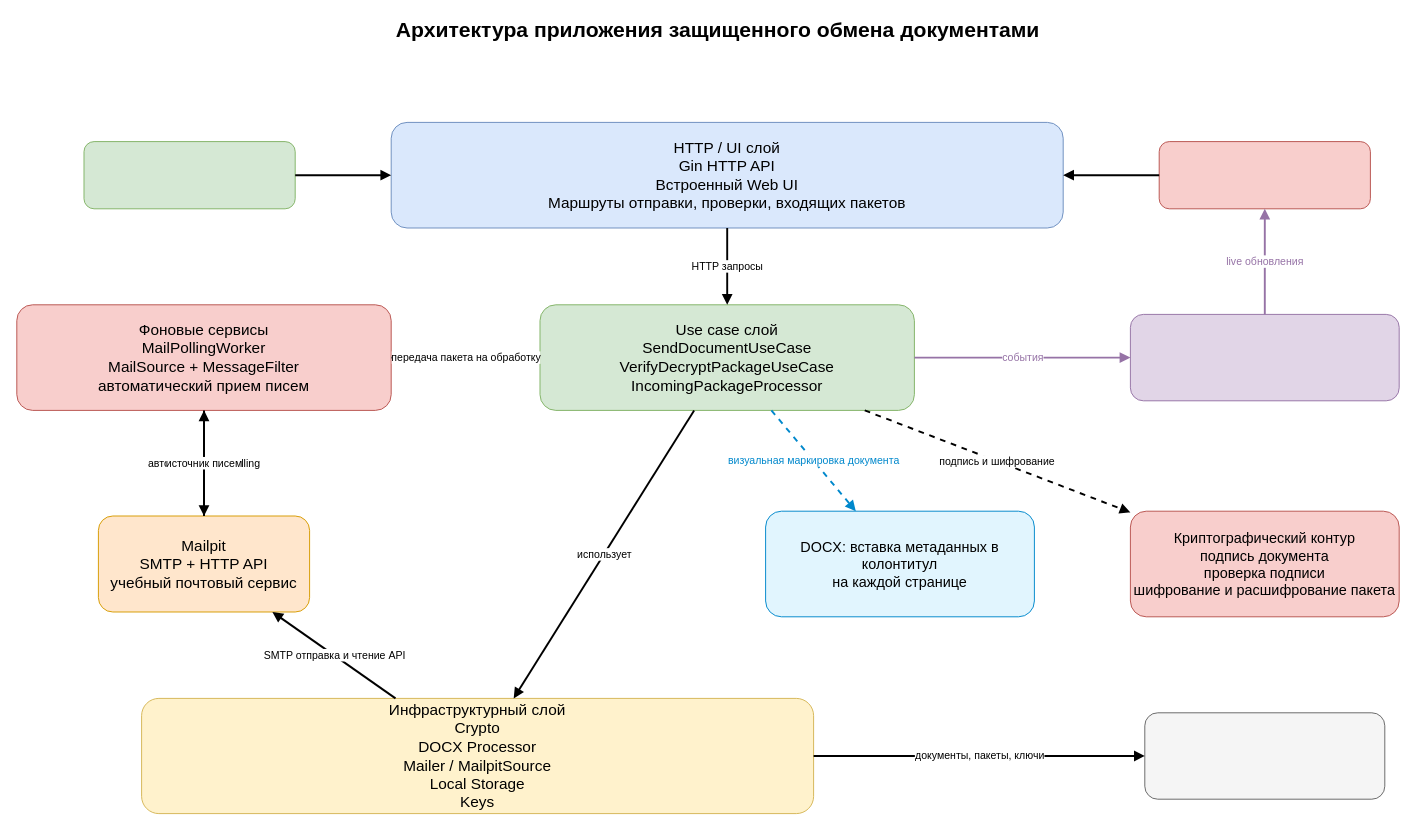
Some shapes in this 1416 by 830 pixel diagram are drawn without their labels. Each missing label, with the box of its shape:
SSE-канал обновление интерфейса получателя без перезагрузки страницы: (1129, 313, 1399, 401)
Локальное файловое хранилище keys/ storage/ inbound/: (1144, 712, 1385, 799)
Пользователь-отправитель: (83, 141, 295, 209)
Пользователь-получатель: (1158, 141, 1370, 209)
